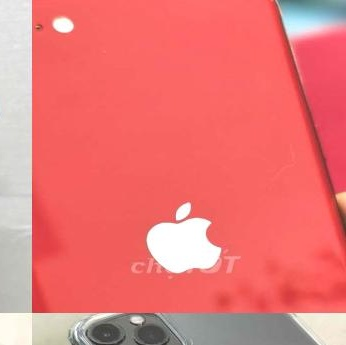scratch: (32, 256, 54, 294), (80, 40, 118, 61)
